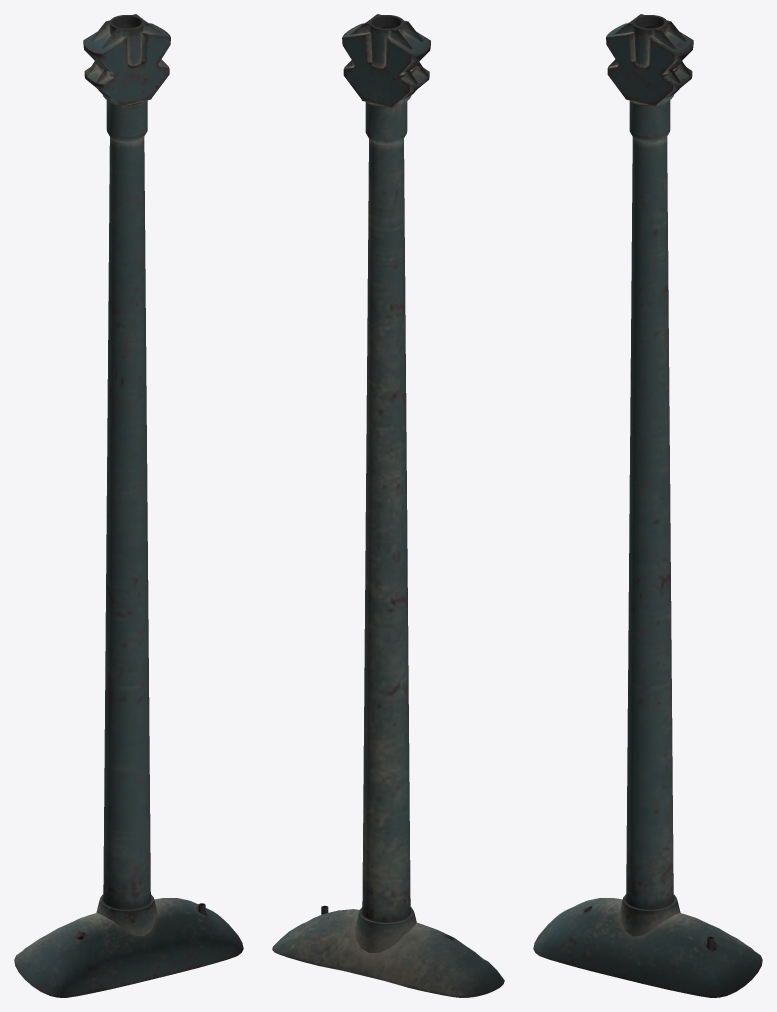
The model's file is Gun_02.glb.
3 views of the same model, side by side, from view 1: azimuth 30°, elevation 25°; view 2: azimuth 150°, elevation 25°; view 3: azimuth 330°, elevation 25° (orthographic).
Visible parts, largest first — view 1: set_0_group_0; view 2: set_0_group_0; view 3: set_0_group_0.
Part boxes in pixels (x1,y1,x2,y2): set_0_group_0: (14, 14, 243, 997); set_0_group_0: (272, 14, 504, 997); set_0_group_0: (533, 14, 762, 997).
Size of the model in its own units: 0.9569 by 4.13 by 0.4042.
Materials: 1 (1 with a texture image).
